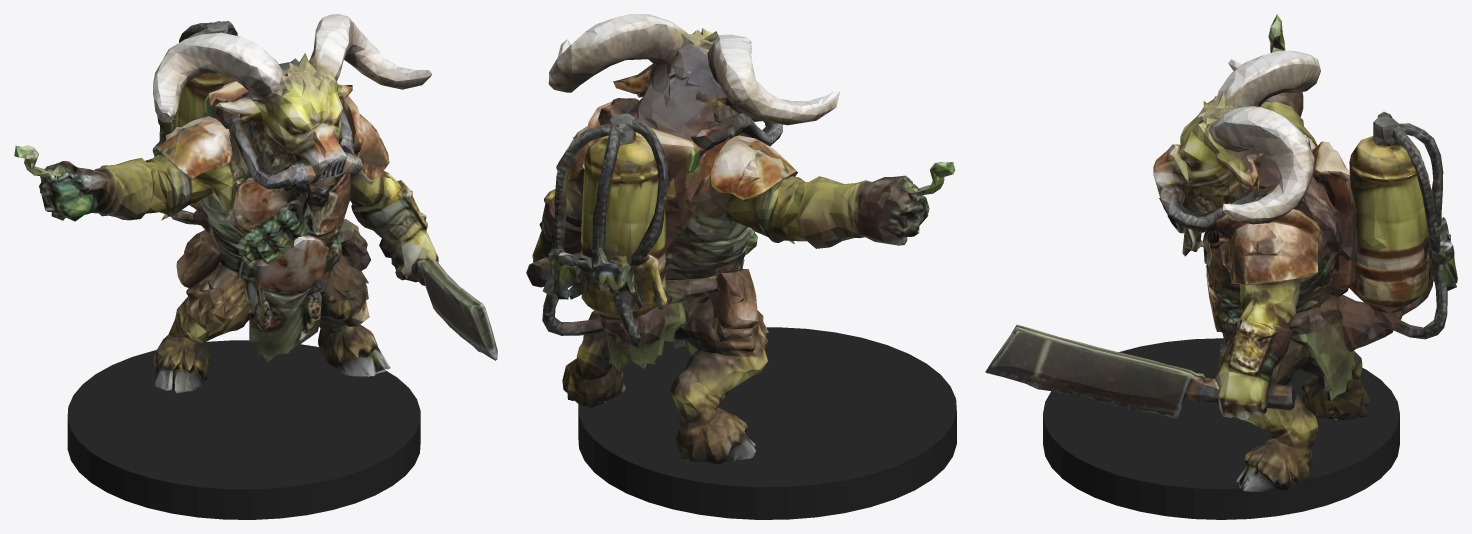
File: fg-toxhorn.glb
3 views of the same model, side by side, from view 1: azimuth 30°, elevation 25°; view 2: azimuth 150°, elevation 25°; view 3: azimuth 270°, elevation 25° (orthographic). The views are drawn at different scales.
Parts seen in each view (by area): view 1: figure, base; view 2: figure, base; view 3: figure, base.
Boxes of the visible parts, x1,y1,x2,y2 form: figure: (14,14,497,393); base: (67,340,420,519); figure: (526,14,955,464); base: (578,327,956,519); figure: (985,14,1457,491); base: (1043,338,1399,519).
Bounding box in the file's own units: 1.66 × 1.52 × 1.67.
2 materials, 1 textured.
